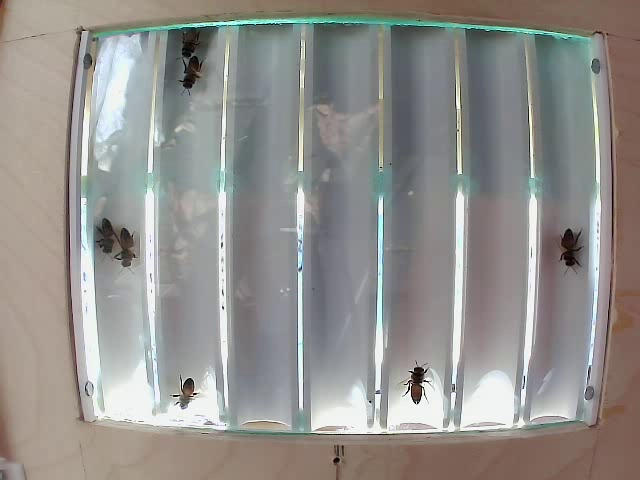bee: (398, 358, 436, 415), (82, 211, 121, 257), (111, 226, 143, 281), (177, 12, 209, 66), (175, 43, 210, 92), (547, 222, 579, 270)
